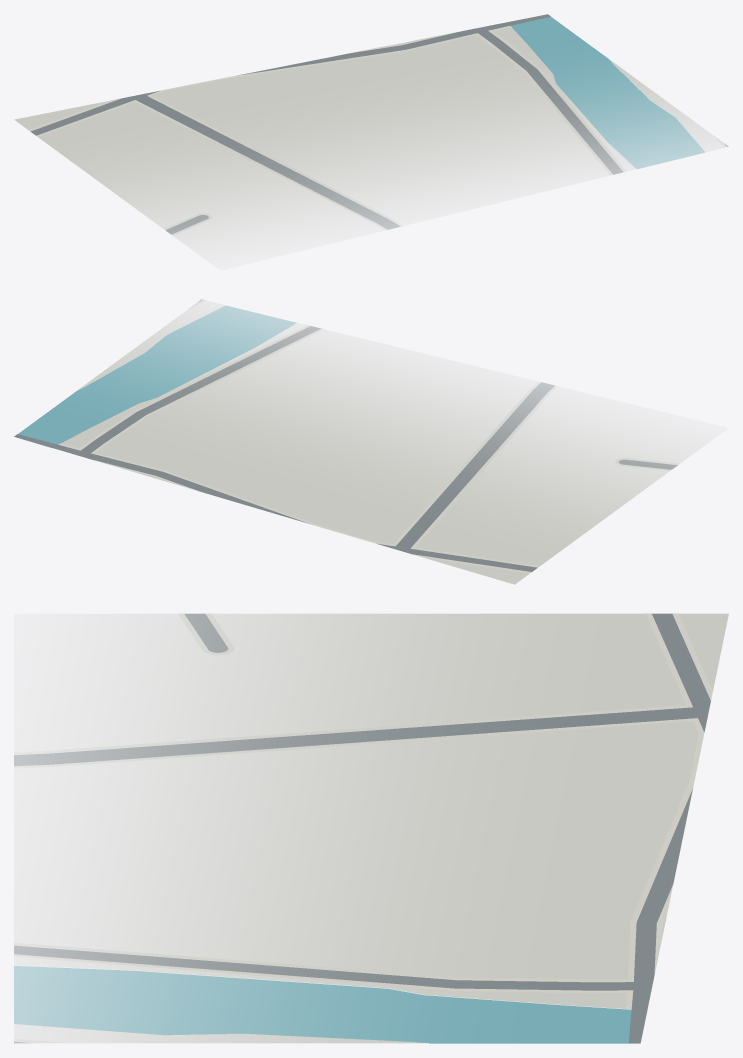
The picture shows the model from 3 angles, top to bottom: view 1: azimuth 30°, elevation 25°; view 2: azimuth 150°, elevation 25°; view 3: azimuth 270°, elevation 25°; orthographic projection. The views are drawn at different scales.
Visible parts, largest first — view 1: city; view 2: city; view 3: city.
Boxes of the visible parts, <box> form: city: <box>14,14,728,269</box>; city: <box>14,299,727,584</box>; city: <box>14,613,728,1043</box>.
Bounding box in the file's own units: 500 × 0.4 × 352.
